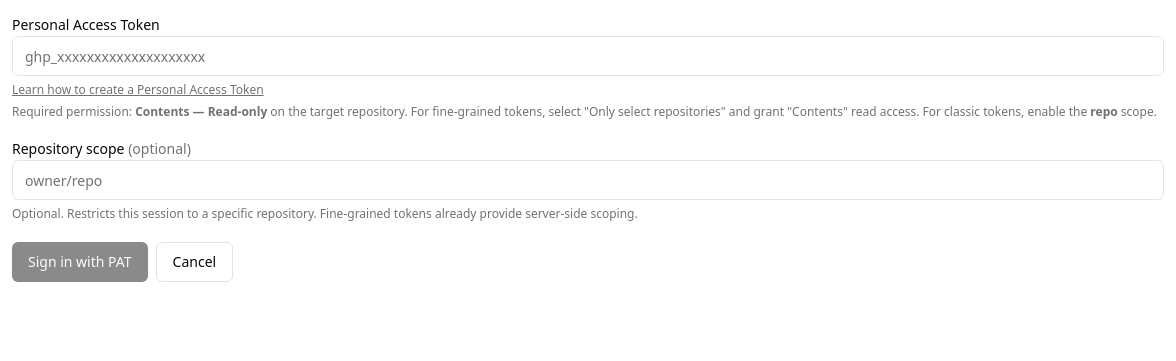
Test: PatLoginForm › displays backend error message on failure
This screenshot has width=1176, height=361.
In the password field labelled "Personal Access Token": [588, 56] box [12,36,1164,76], type "ghp_badtoken"
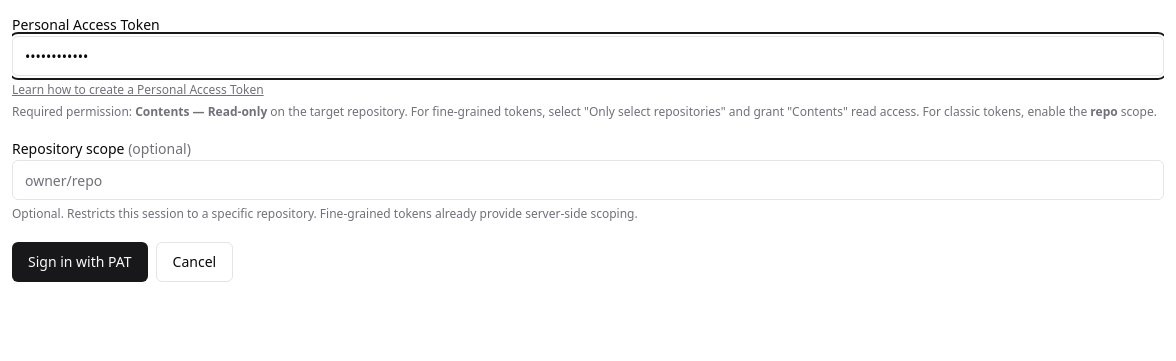
Click the button "Sign in with PAT": [80, 262] box [12,242,148,282]
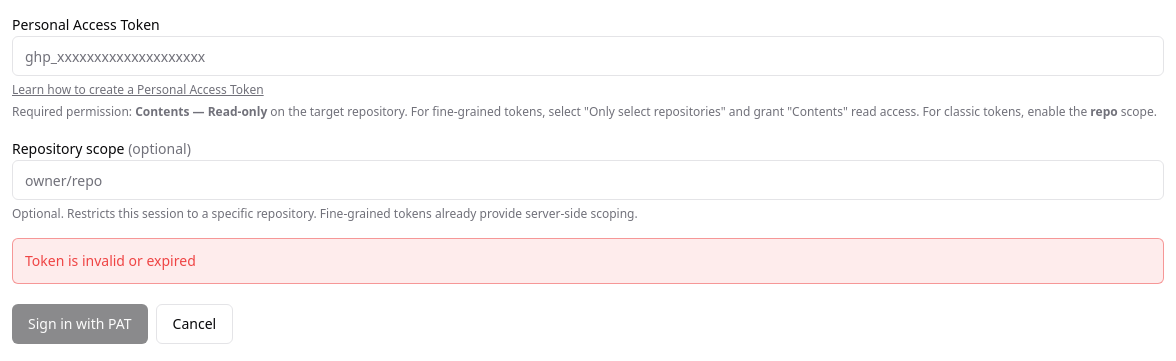
Now the text "Token is invalid or expired" is shown, box [12,238,1164,284]
